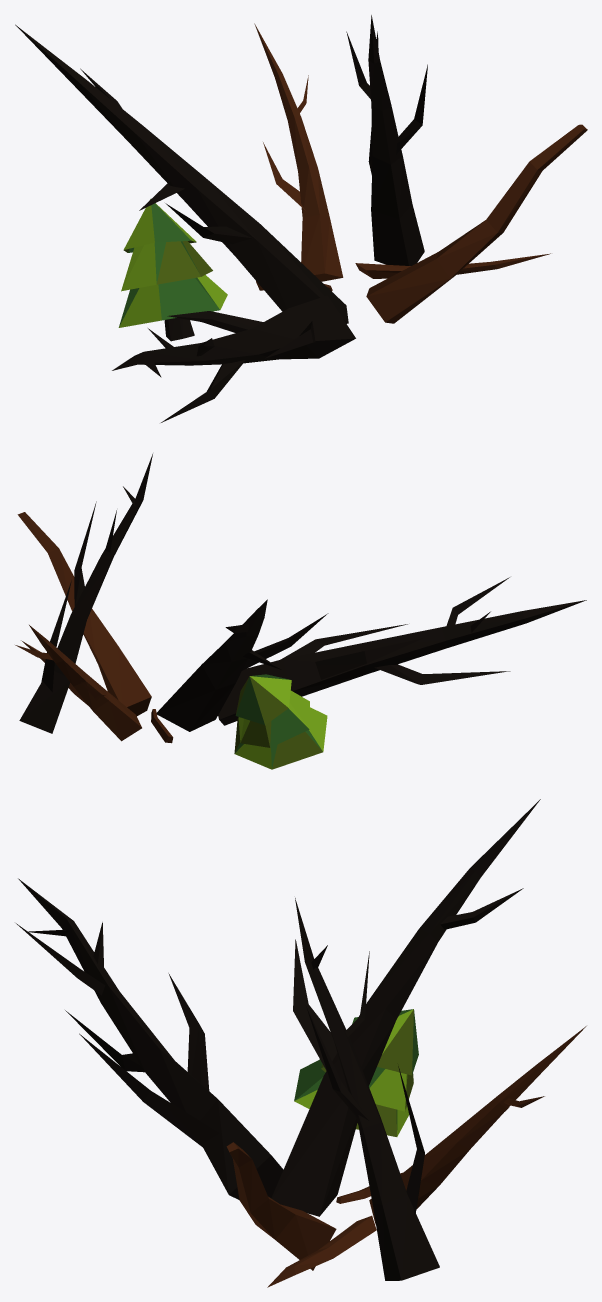
File: Tree2_M2_LyingTree.fbx
The picture shows the model from 3 angles, top to bottom: view 1: azimuth 30°, elevation 25°; view 2: azimuth 150°, elevation 25°; view 3: azimuth 270°, elevation 25°; orthographic projection. The views are drawn at different scales.
Parts seen in each view (by area): view 1: Tree2_M2_LyingTree; view 2: Tree2_M2_LyingTree; view 3: Tree2_M2_LyingTree.
Part boxes in pixels (x1,y1,x2,y2): Tree2_M2_LyingTree: [15, 15, 587, 422]; Tree2_M2_LyingTree: [15, 454, 586, 769]; Tree2_M2_LyingTree: [16, 799, 586, 1287].
Bounding box in the file's own units: 578 × 312 × 453.
